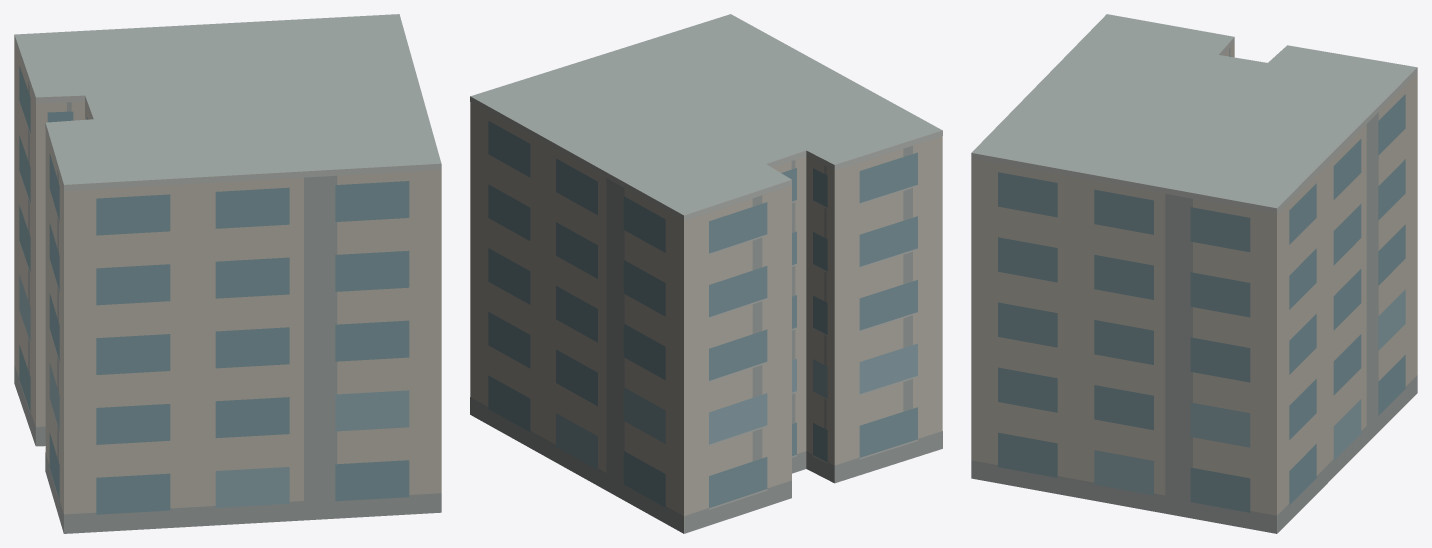
File: survey-upis-32916196.glb
The picture shows the model from 3 angles, left to right: view 1: azimuth 30°, elevation 25°; view 2: azimuth 150°, elevation 25°; view 3: azimuth 270°, elevation 25°; orthographic projection. The views are drawn at different scales.
Parts seen in each view (by area): view 1: survey-upis-32916196.tmp; view 2: survey-upis-32916196.tmp; view 3: survey-upis-32916196.tmp.
Boxes of the visible parts, <box> form: survey-upis-32916196.tmp: <box>14,14,441,533</box>; survey-upis-32916196.tmp: <box>470,14,942,533</box>; survey-upis-32916196.tmp: <box>971,14,1417,533</box>.
Size of the model in its own units: 17.67 by 13.8 by 17.15.
